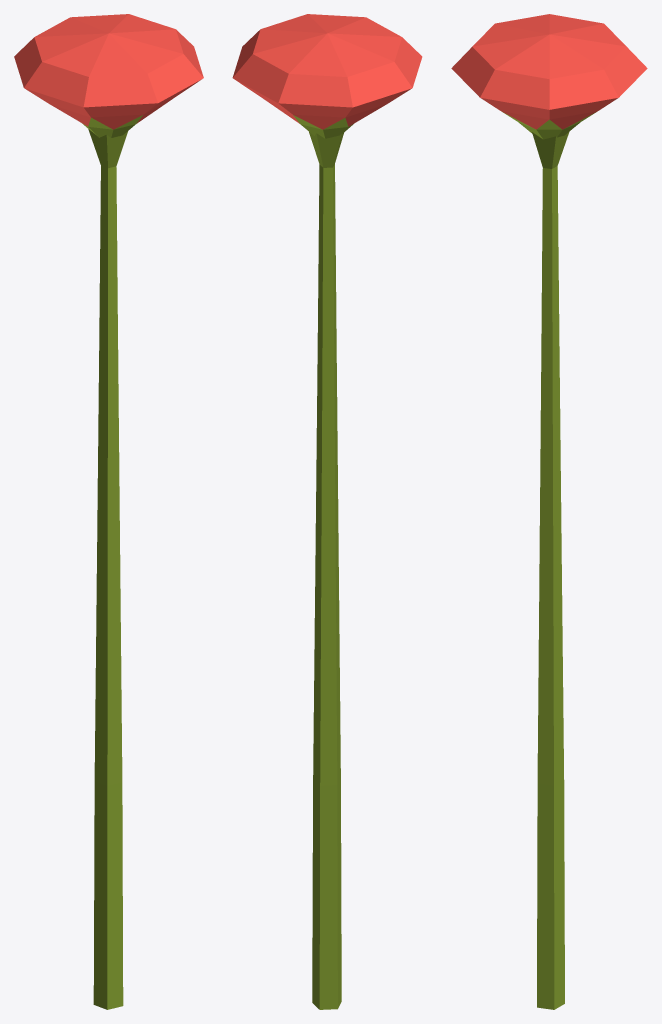
File: NHP_Flower_LP_A2_H70cm_01.fbx
3 views of the same model, side by side, from view 1: azimuth 30°, elevation 25°; view 2: azimuth 150°, elevation 25°; view 3: azimuth 270°, elevation 25° (orthographic).
Visible parts, largest first — view 1: NHP_Flower_LP_A2_H70cm_01_LOD0; view 2: NHP_Flower_LP_A2_H70cm_01_LOD0; view 3: NHP_Flower_LP_A2_H70cm_01_LOD0.
Part boxes in pixels (<box>): NHP_Flower_LP_A2_H70cm_01_LOD0: <box>14,14,203,1009</box>; NHP_Flower_LP_A2_H70cm_01_LOD0: <box>232,14,422,1009</box>; NHP_Flower_LP_A2_H70cm_01_LOD0: <box>451,14,647,1009</box>.
Size of what is drawn, in the model's own units: 0.1286 by 0.7002 by 0.1286.
